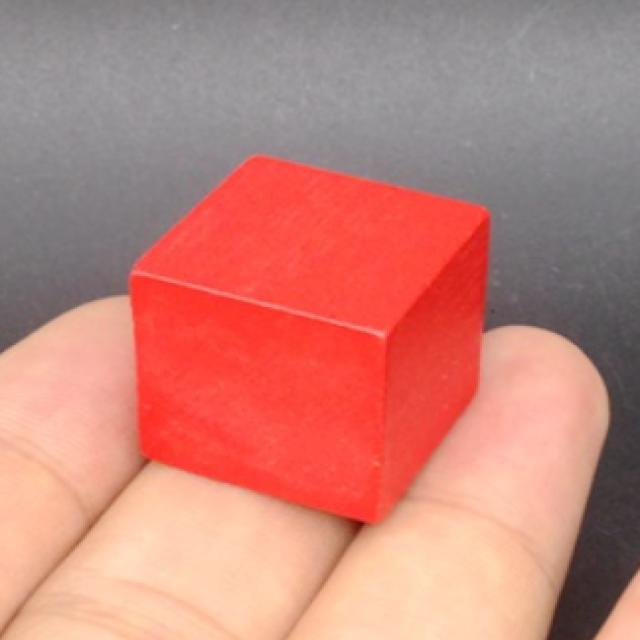red cube: (128, 155, 492, 526)
